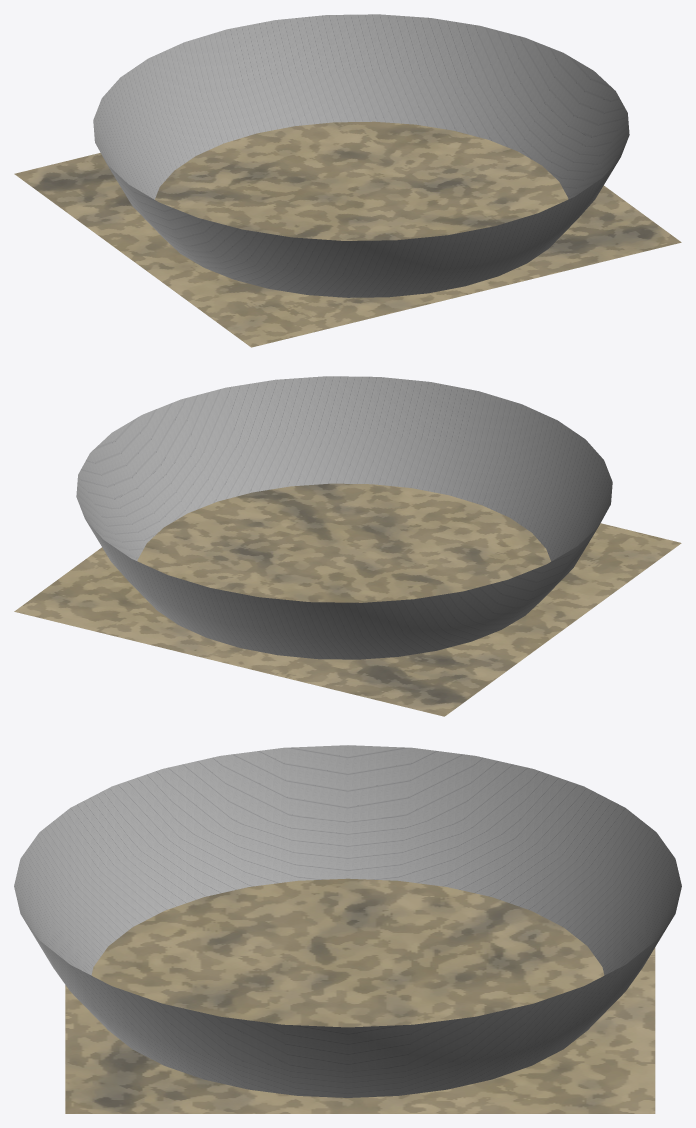
Rendered from titleStadium.FBX.
3 renders of one model, top to bottom at view 1: azimuth 30°, elevation 25°; view 2: azimuth 150°, elevation 25°; view 3: azimuth 270°, elevation 25°, orthographic. The views are drawn at different scales.
Parts seen in each view (by area): view 1: Sphere001, Plane001; view 2: Sphere001, Plane001; view 3: Sphere001, Plane001.
Boxes of the visible parts, x1,y1,x2,y2 form: Sphere001: (93,14,629,297); Plane001: (14,121,681,347); Sphere001: (76,376,612,659); Plane001: (14,483,681,716); Sphere001: (14,745,681,1097); Plane001: (65,878,655,1113).
Bounding box in the file's own units: 844 × 148 × 844.
2 materials, 2 textured.
